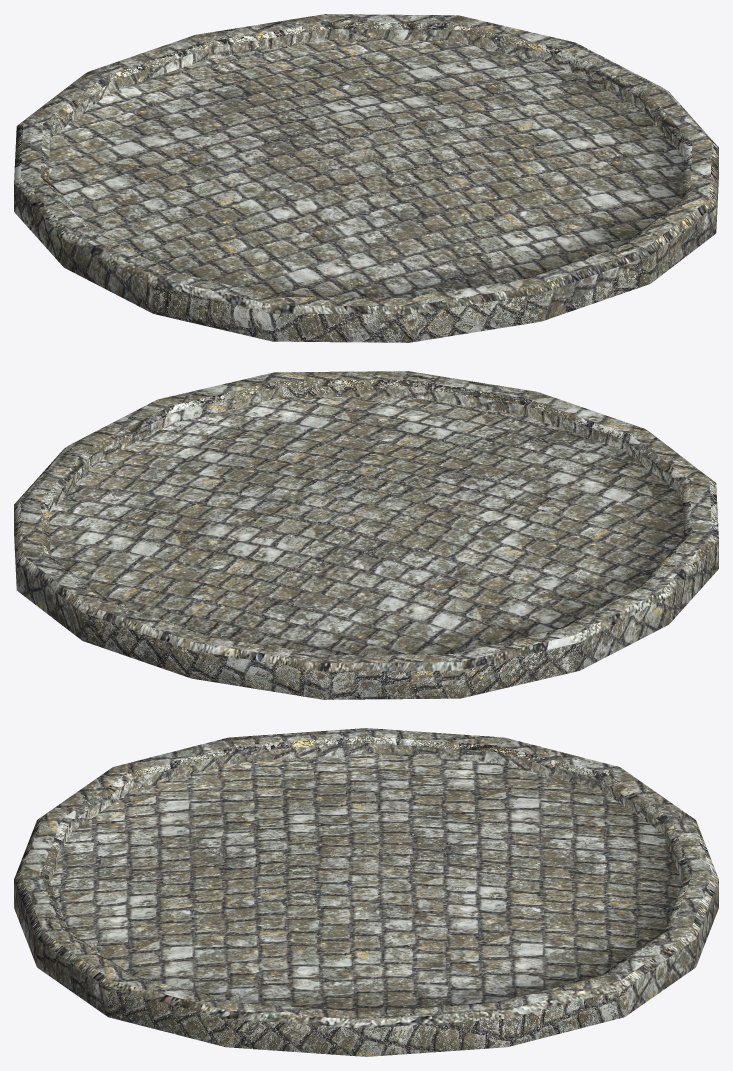
Rendered from Square.fbx.
3 views of the same model, one above another, from view 1: azimuth 30°, elevation 25°; view 2: azimuth 150°, elevation 25°; view 3: azimuth 270°, elevation 25° (orthographic).
Parts seen in each view (by area): view 1: Plane; view 2: Plane; view 3: Plane.
Part boxes in pixels (x1,y1,x2,y2): Plane: (14,14,718,342); Plane: (14,371,718,699); Plane: (14,728,718,1056).
Size of the model in its own units: 1447 by 1447 by 90.11.
